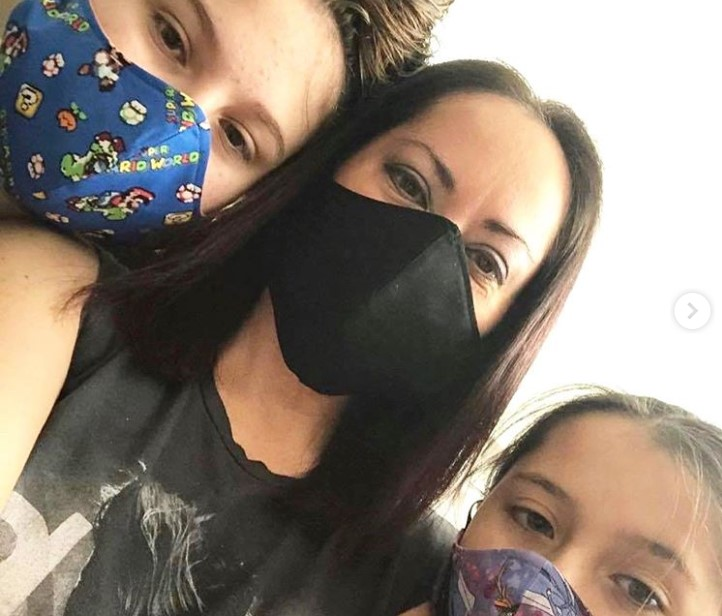face_with_mask: (252, 63, 598, 397), (2, 4, 443, 239), (440, 398, 722, 615)
